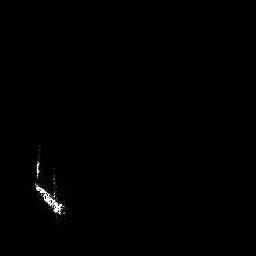ship: (30, 180, 69, 218)
